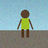person: (17, 10, 33, 37)
